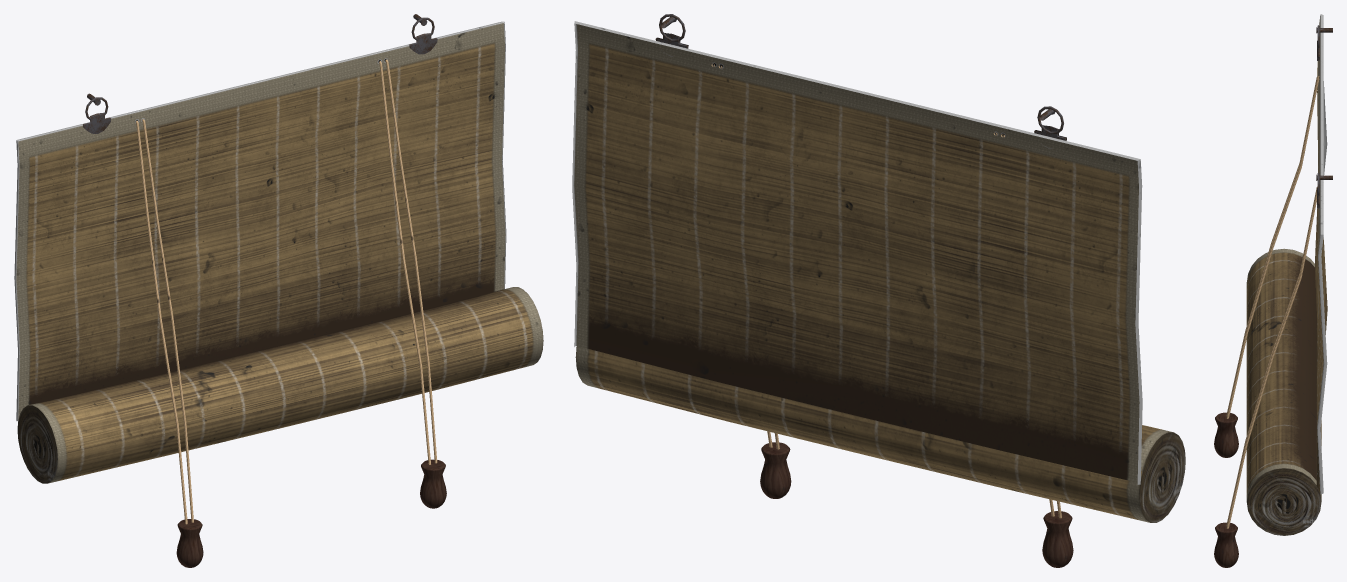
Rendered from SM_Blinds.fbx.
The picture shows the model from 3 angles, left to right: view 1: azimuth 30°, elevation 25°; view 2: azimuth 150°, elevation 25°; view 3: azimuth 270°, elevation 25°; orthographic projection. The views are drawn at different scales.
Parts seen in each view (by area): view 1: SM_Blinds_LOD0; view 2: SM_Blinds_LOD0; view 3: SM_Blinds_LOD0.
Boxes of the visible parts, box(x1,y1,x2,y2) form: SM_Blinds_LOD0: box(14, 14, 543, 567); SM_Blinds_LOD0: box(572, 14, 1185, 567); SM_Blinds_LOD0: box(1214, 14, 1332, 567).
Size of the model in its own units: 213 by 48.47 by 185.
